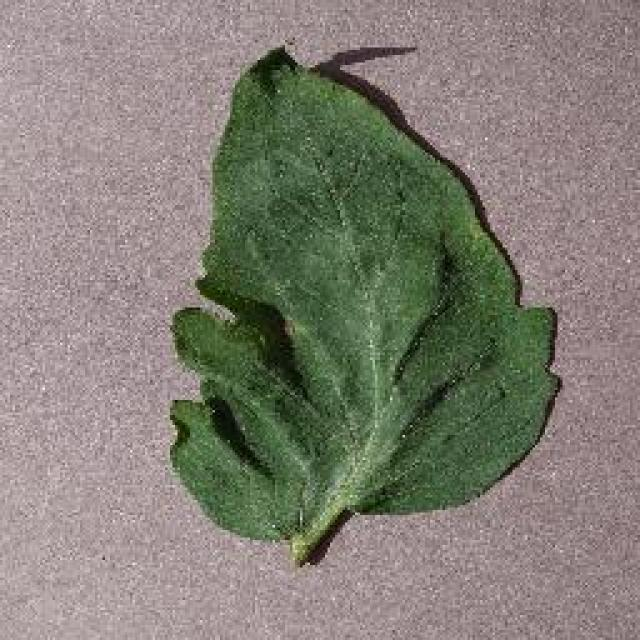Tomato Septoria spot leaf: (165, 41, 560, 549)
